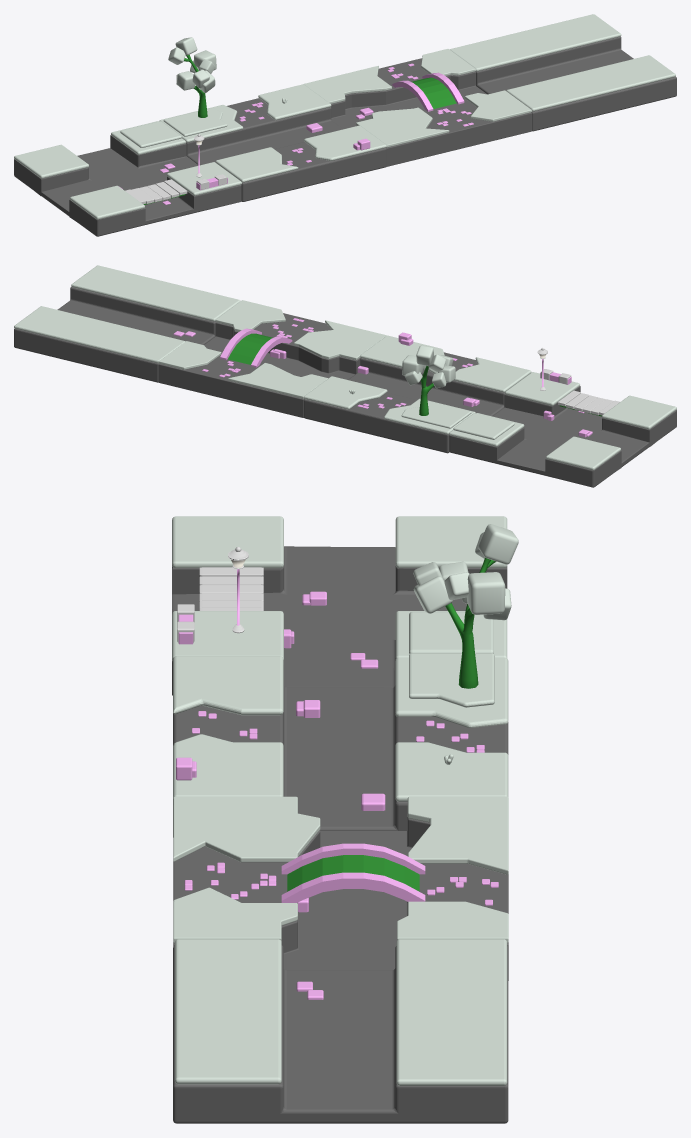
Rendered from FSHNG_GAME_SON.fbx.
3 views of the same model, one above another, from view 1: azimuth 30°, elevation 25°; view 2: azimuth 150°, elevation 25°; view 3: azimuth 270°, elevation 25° (orthographic). The views are drawn at different scales.
Parts seen in each view (by area): view 1: Ground 3, Ground 2, Ground 4, Ground 1, Tree, Bridge, Bridge 2; view 2: Ground 3, Ground 4, Ground 1, Ground 2, Tree, Bridge, Bridge 2; view 3: Ground 3, Ground 2, Ground 1, Ground 4, Tree, Bridge, Bridge 2.
Part boxes in pixels (left/top/right/bottom): Ground 3: left=449, top=14, right=676, bottom=131; Ground 2: left=159, top=84, right=386, bottom=201; Ground 4: left=14, top=121, right=241, bottom=236; Ground 1: left=303, top=49, right=531, bottom=166; Tree: left=168, top=37, right=216, bottom=117; Bridge: left=392, top=72, right=464, bottom=111; Bridge 2: left=125, top=179, right=187, bottom=204; Ground 3: left=14, top=265, right=240, bottom=382; Ground 4: left=449, top=372, right=676, bottom=487; Ground 1: left=158, top=300, right=386, bottom=417; Ground 2: left=304, top=335, right=531, bottom=453; Tree: left=402, top=345, right=455, bottom=415; Bridge: left=220, top=328, right=292, bottom=367; Bridge 2: left=558, top=390, right=619, bottom=416; Ground 3: left=173, top=939, right=508, bottom=1123; Ground 2: left=173, top=653, right=508, bottom=837; Ground 1: left=173, top=796, right=508, bottom=980; Ground 4: left=172, top=516, right=507, bottom=695; Tree: left=413, top=524, right=518, bottom=688; Bridge: left=281, top=843, right=425, bottom=902; Bridge 2: left=199, top=567, right=263, bottom=610.
Size of the model in its own units: 800 by 130 by 207.
